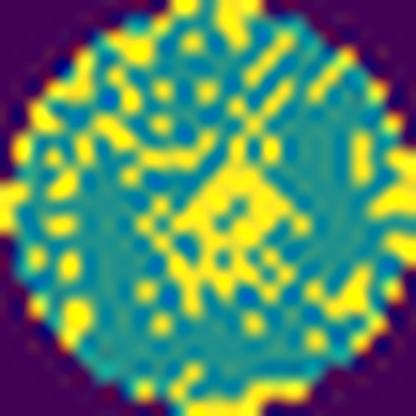Center: (134, 82, 312, 319)
